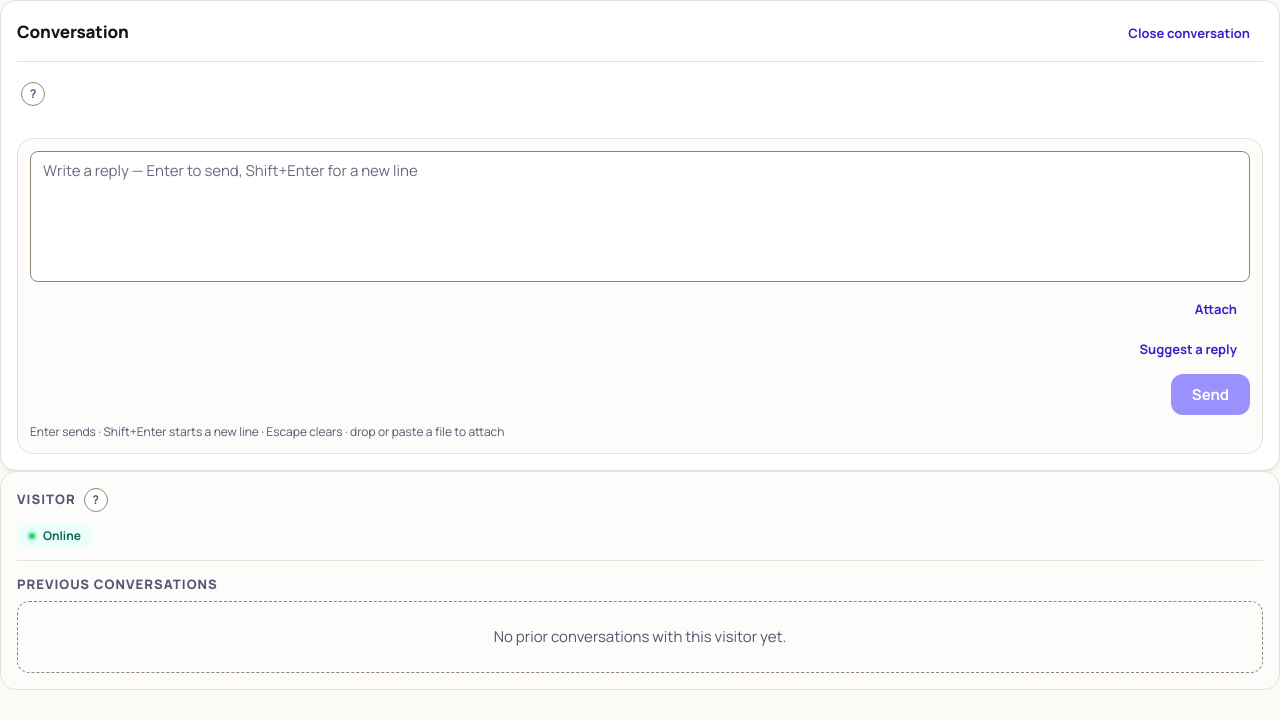
Test: closing the conversation › replaces the composer with a notice, and refreshes the rail
This screenshot has width=1280, height=720.
Expected: the dropdown with placeholder "Write a reply — Enter to send, Shift+Enter for a new line" is shown, 30,151 -> 1250,282
Click the button "Close conversation": (1189, 33) 1115,17 -> 1263,49
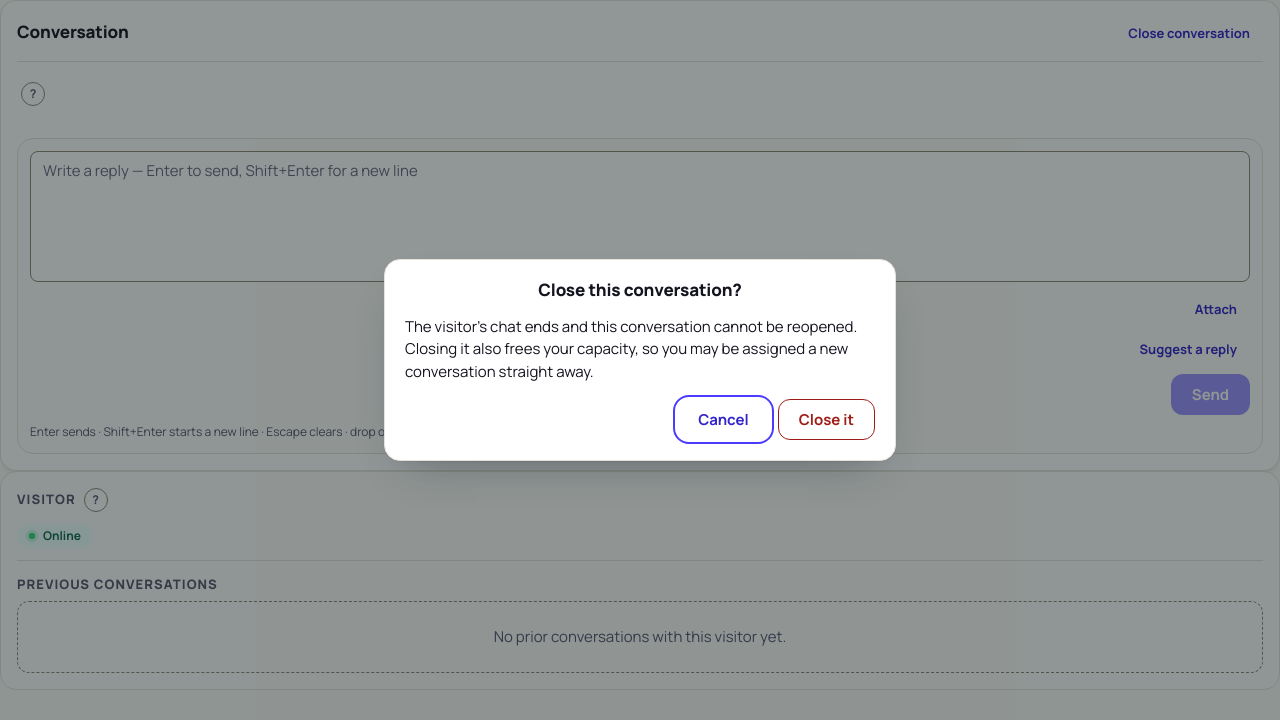
Click the button "Close it": (826, 420) 778,399 -> 875,440
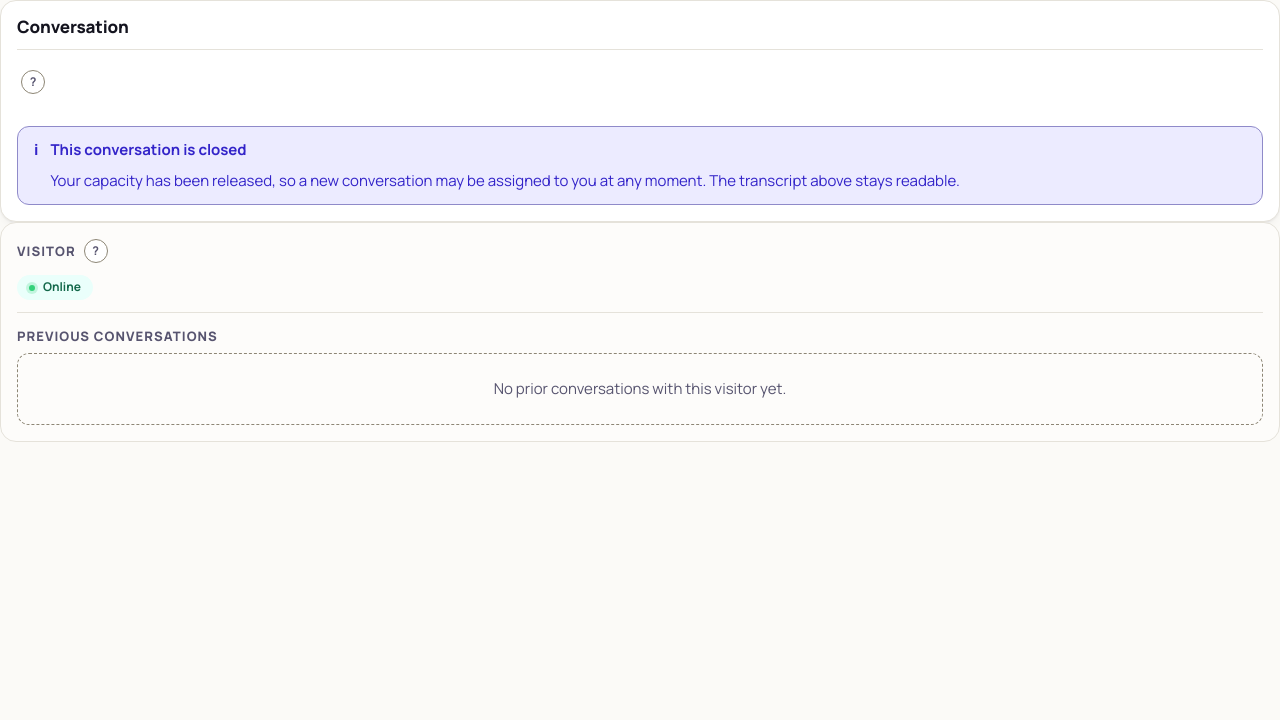
Expected: the dropdown is gone
Expected: the text "This conversation is closed" is shown, 50,139 -> 247,162
